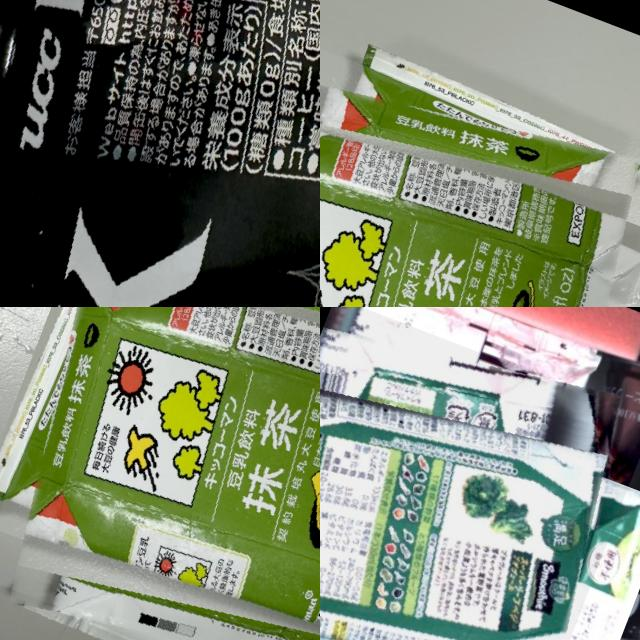Aluminium Foil: (0, 307, 320, 640), (320, 307, 640, 640), (320, 36, 640, 307)
Can: (0, 0, 320, 307), (510, 351, 640, 640)
